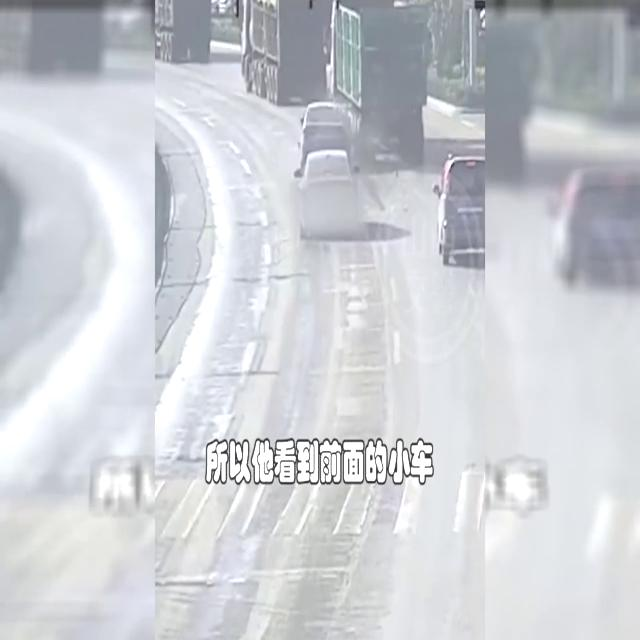accident: (294, 100, 376, 240)
